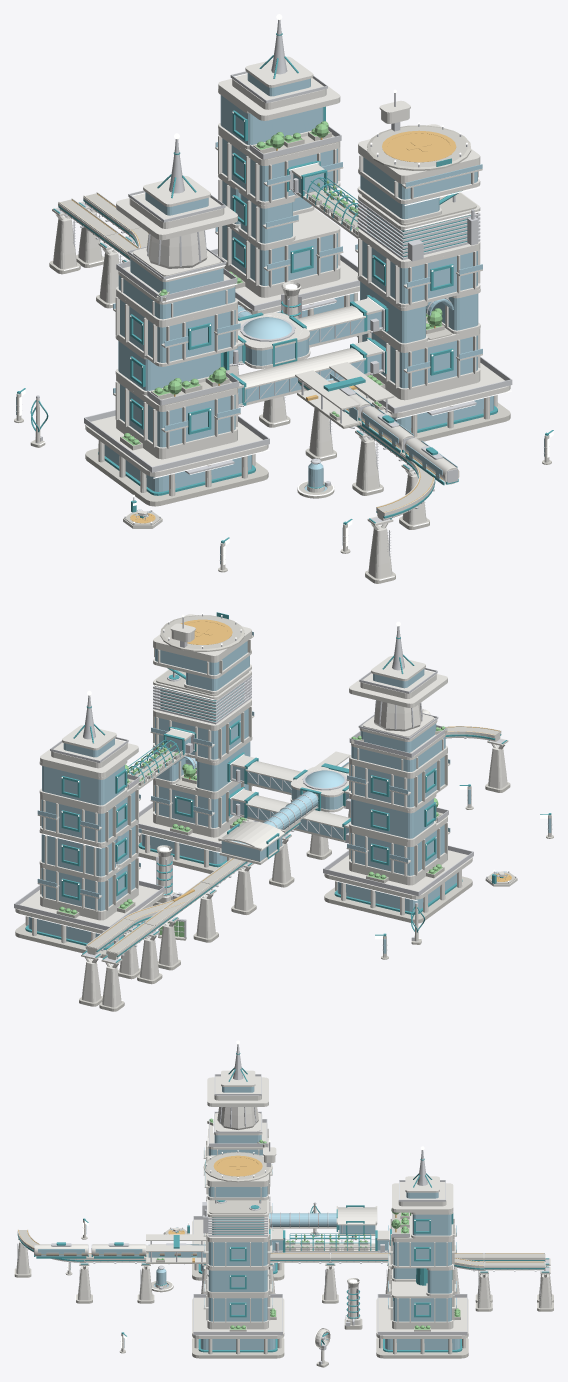
The model's file is arcology-towers-and-skyways-three-tower--b27ca724-starter-scene__23281.glb.
The picture shows the model from 3 angles, top to bottom: view 1: azimuth 30°, elevation 25°; view 2: azimuth 150°, elevation 25°; view 3: azimuth 270°, elevation 25°; orthographic projection. The views are drawn at different scales.
Parts seen in each view (by area): view 1: 000-podium-base/1, 006-crown-mast/0, 019-crown-mast/0, 011-mechanical-floor/2, 015-residential-section/0, 015-residential-section/1, 010-residential-section/1, 001-residential-section/1, 003-residential-section/1, 012-offset-cantilever-section/1, 007-podium-base/1, 004-setback-transition/1 (+50 smaller); view 2: 000-podium-base/1, 019-crown-mast/0, 006-crown-mast/0, 011-mechanical-floor/2, 014-podium-base/1, 015-residential-section/1, 016-corner-tower-section/1, 017-residential-section/1, 003-residential-section/1, 001-residential-section/1, 002-terraced-garden-section/1, 018-terraced-garden-section/1 (+58 smaller); view 3: 007-podium-base/1, 014-podium-base/1, 006-crown-mast/0, 019-crown-mast/0, 011-mechanical-floor/2, 008-residential-section/1, 015-residential-section/1, 010-residential-section/1, 017-residential-section/1, 015-residential-section/0, 009-atrium-section/1, 045-maglev-station-platform-pod/0 (+39 smaller).
Part boxes in pixels (<box>): 000-podium-base/1: <box>85,416,268,496</box>; 006-crown-mast/0: <box>116,175,237,240</box>; 019-crown-mast/0: <box>218,56,340,120</box>; 011-mechanical-floor/2: <box>357,199,480,261</box>; 015-residential-section/0: <box>215,208,343,289</box>; 015-residential-section/1: <box>215,225,342,285</box>; 010-residential-section/1: <box>355,241,482,303</box>; 001-residential-section/1: <box>113,384,240,447</box>; 003-residential-section/1: <box>113,300,240,362</box>; 012-offset-cantilever-section/1: <box>360,157,482,219</box>; 007-podium-base/1: <box>357,363,510,437</box>; 004-setback-transition/1: <box>118,259,235,319</box>; 000-podium-base/1: <box>324,850,472,915</box>; 019-crown-mast/0: <box>40,725,138,777</box>; 006-crown-mast/0: <box>349,656,447,707</box>; 011-mechanical-floor/2: <box>153,674,251,724</box>; 014-podium-base/1: <box>15,885,163,943</box>; 015-residential-section/1: <box>37,860,140,910</box>; 016-corner-tower-section/1: <box>41,825,141,876</box>; 017-residential-section/1: <box>37,791,140,842</box>; 003-residential-section/1: <box>347,756,450,807</box>; 001-residential-section/1: <box>347,824,450,875</box>; 002-terraced-garden-section/1: <box>351,798,433,838</box>; 018-terraced-garden-section/1: <box>42,765,124,805</box>; 007-podium-base/1: <box>192,1297,284,1354</box>; 014-podium-base/1: <box>376,1297,468,1354</box>; 006-crown-mast/0: <box>207,1070,268,1106</box>; 019-crown-mast/0: <box>392,1176,453,1212</box>; 011-mechanical-floor/2: <box>202,1200,267,1236</box>; 008-residential-section/1: <box>204,1281,272,1321</box>; 015-residential-section/1: <box>388,1281,456,1321</box>; 010-residential-section/1: <box>204,1225,272,1265</box>; 017-residential-section/1: <box>388,1225,456,1265</box>; 015-residential-section/0: <box>388,1274,456,1323</box>; 009-atrium-section/1: <box>208,1270,267,1291</box>; 045-maglev-station-platform-pod/0: <box>146,1234,205,1262</box>.
Size of the model in its own units: 85.46 by 63.32 by 141.
